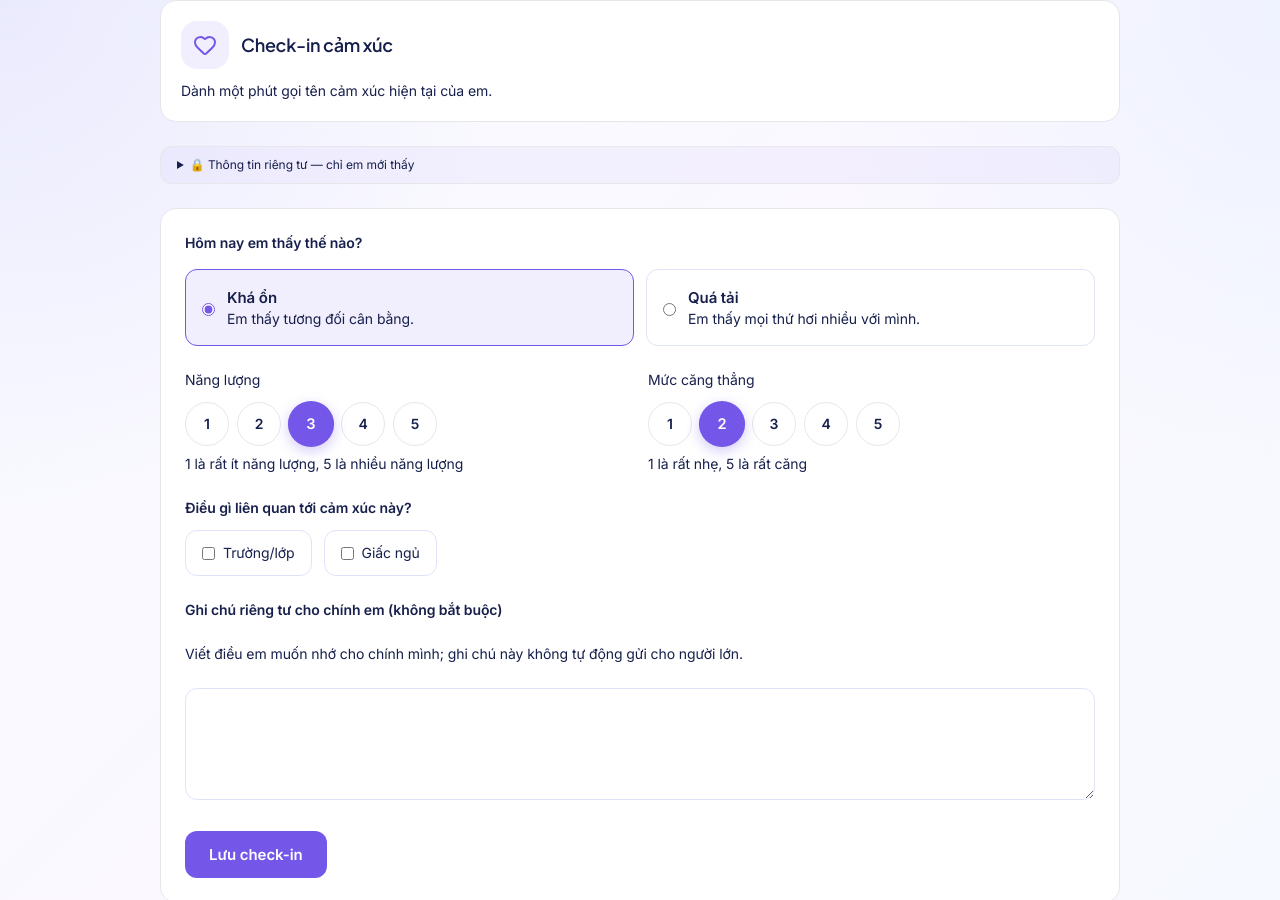
Test: Phase 13 mood check-in UI › submits a private mood check-in and suggests explicit support actions without auto SOS
Expected: the heading "Check-in cảm xúc" is shown, [241,31,393,59]
Expected: the text "Dành một phút gọi tên cảm xúc hiện tại của em." is shown, [181,82,492,99]
Click the radio button labelled "Quá tải Em thấy mọi thứ hơi nhiều với mình.": (670, 310) [663,290,676,329]
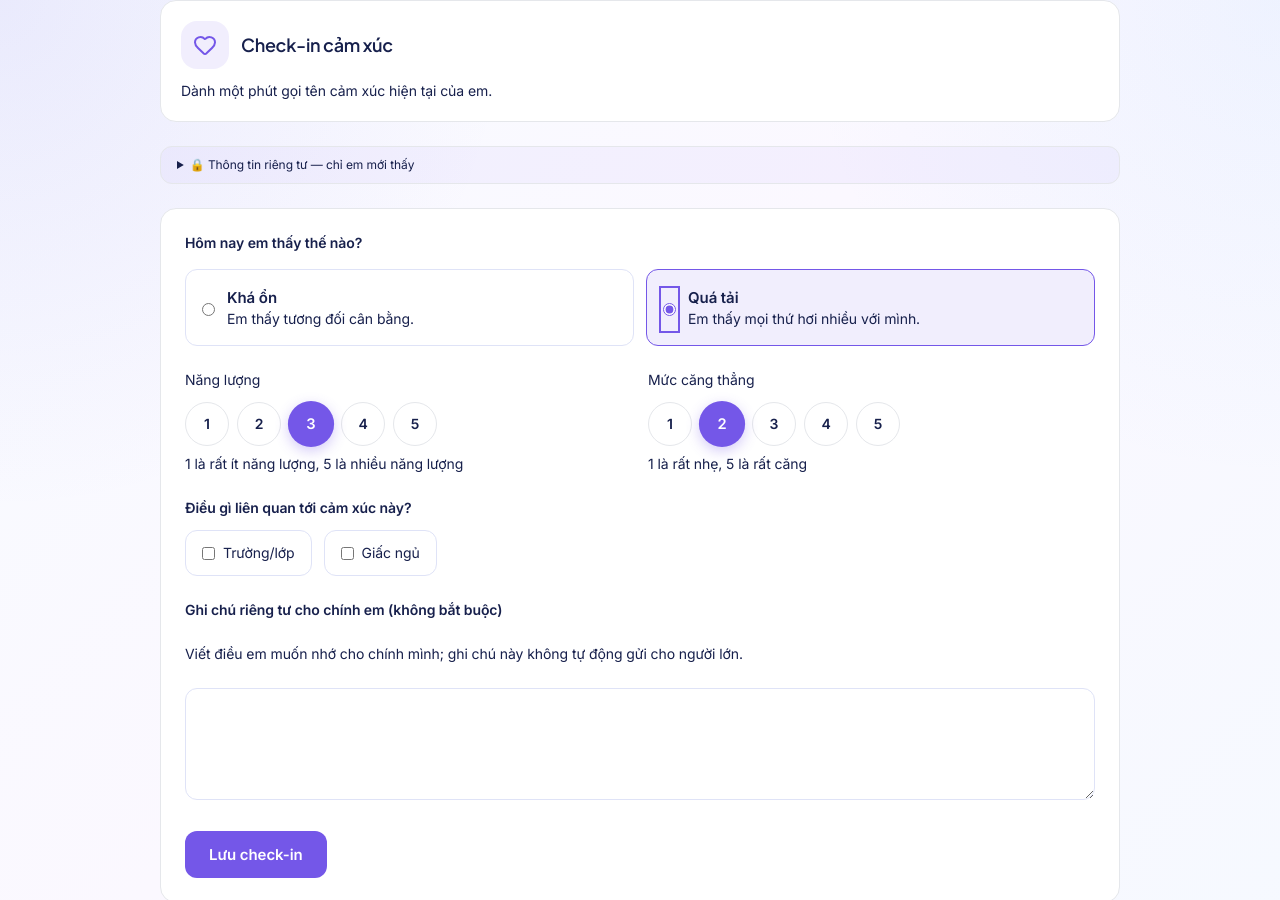
Click the radio button named "Năng lượng 2": (259, 424) [237,402,281,446]
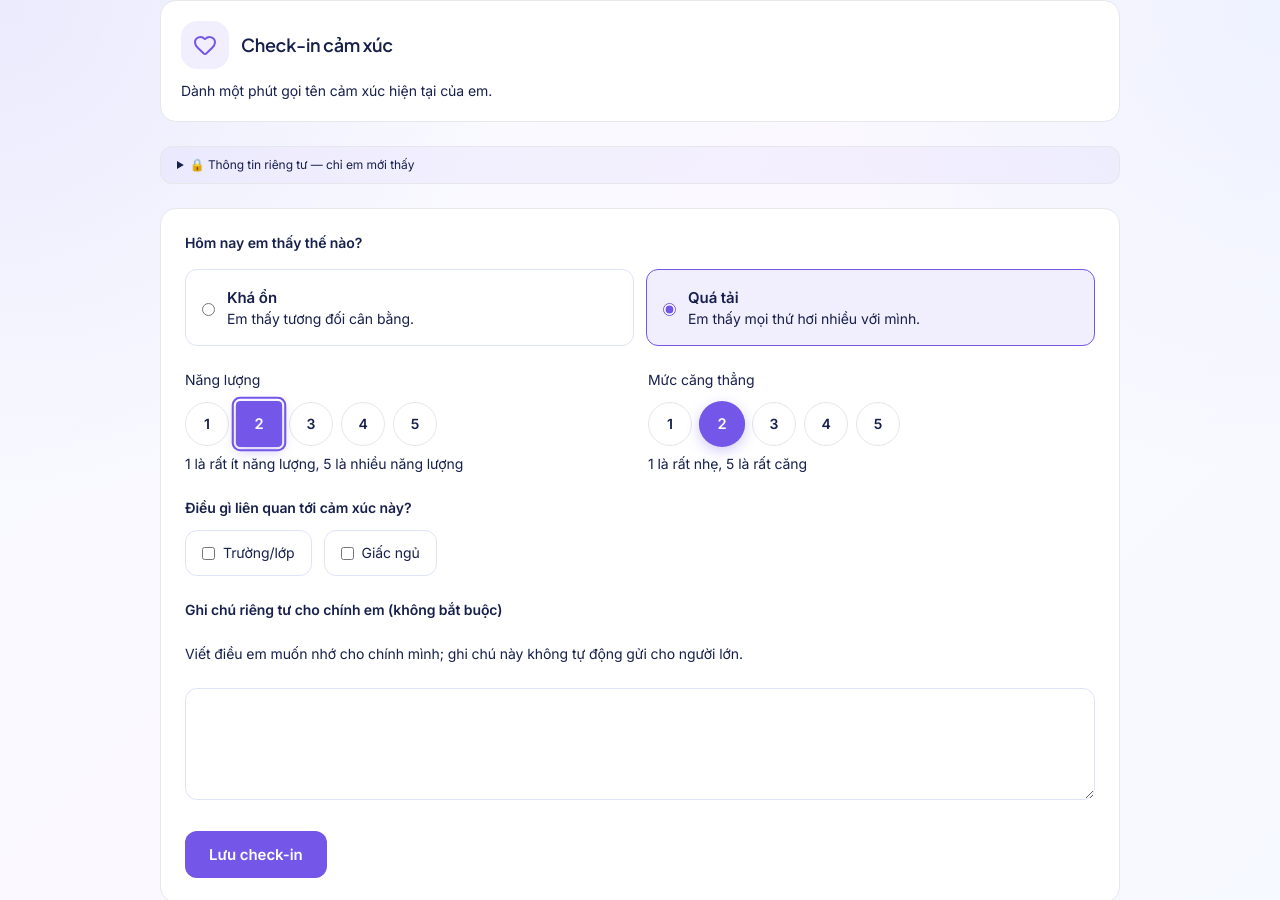
Click the radio button named "Mức căng thẳng 5": (878, 424) [856,402,900,446]
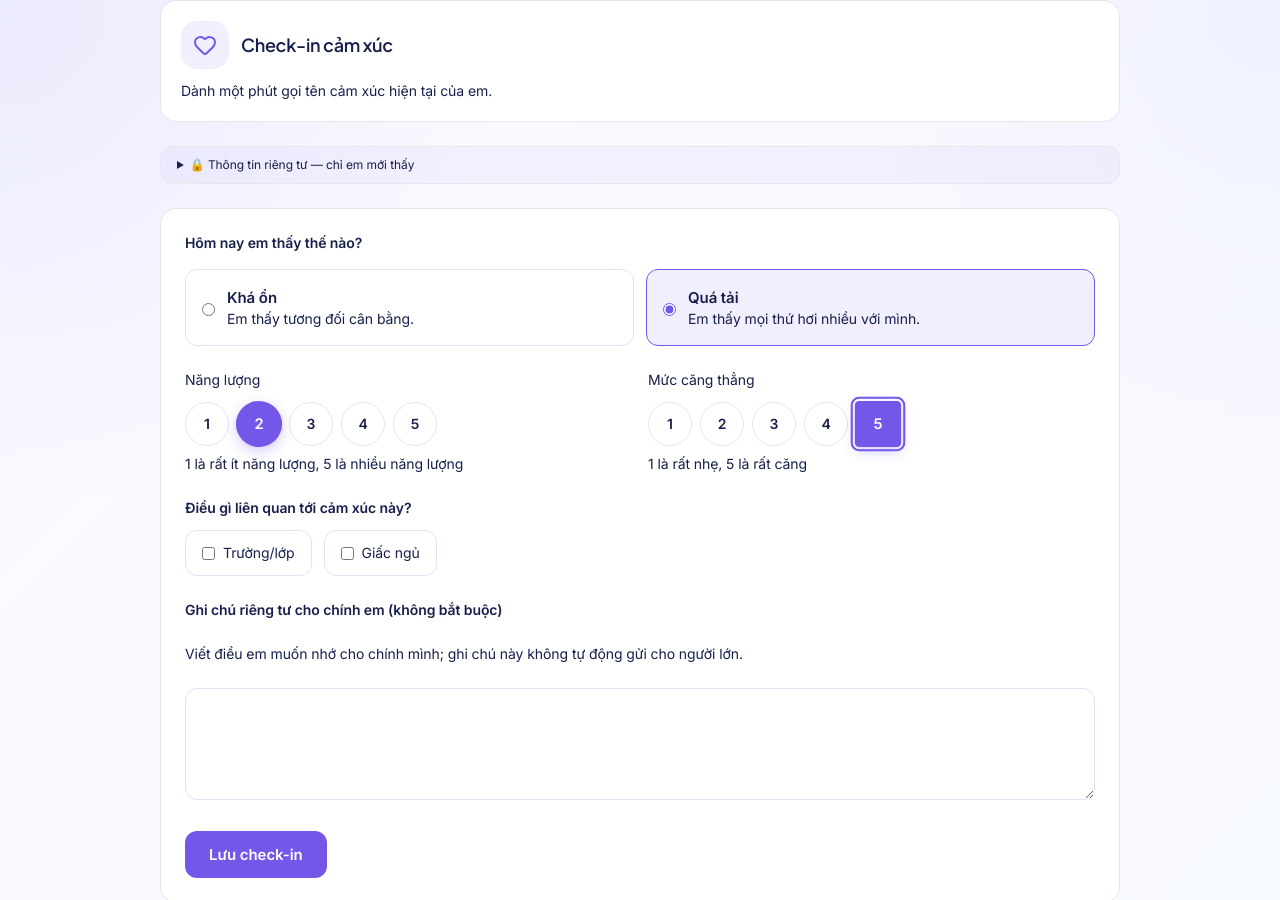
Click the checkbox labelled "Trường/lớp": (208, 553) [202,547,215,560]
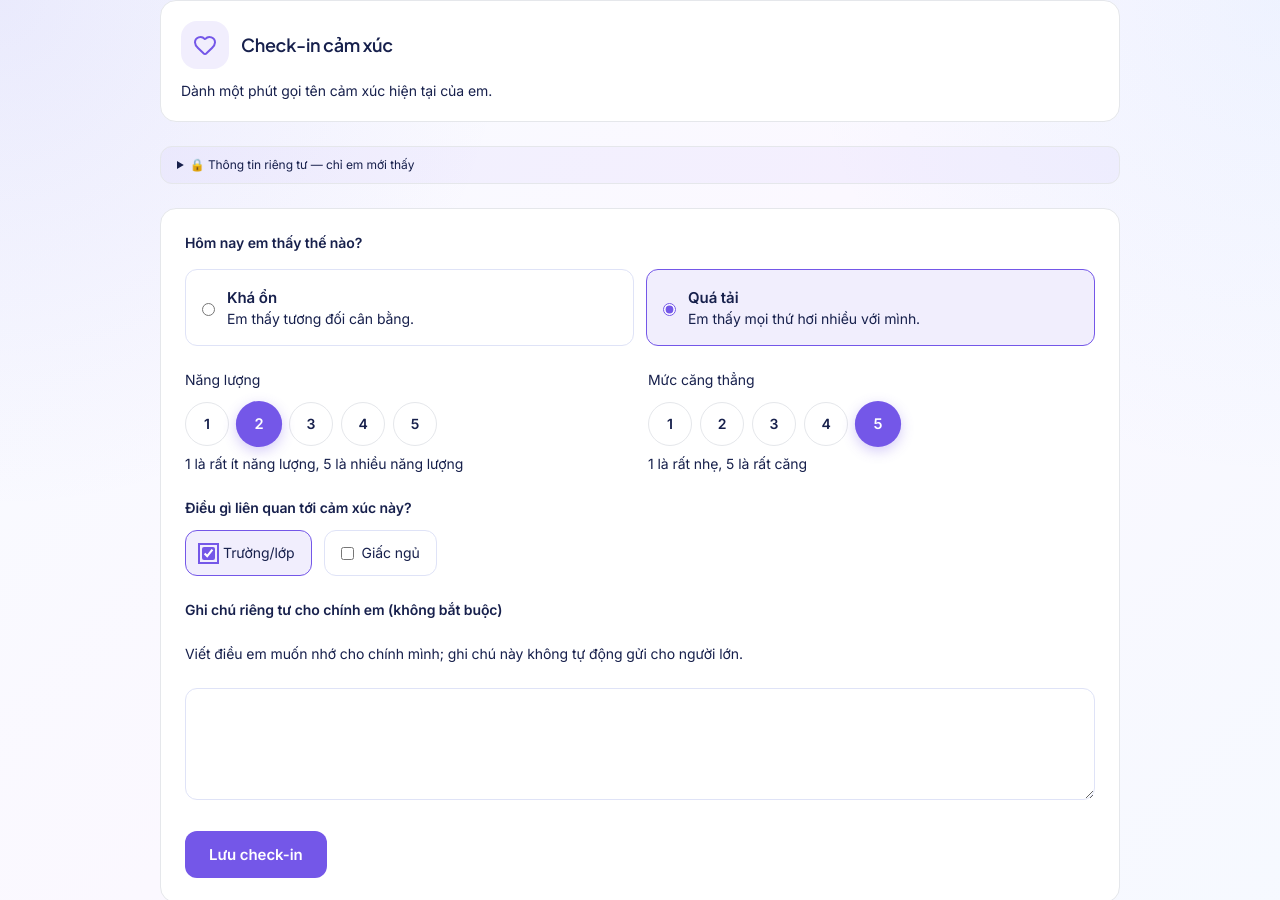
Click the checkbox labelled "Giấc ngủ": (347, 553) [340,547,354,560]
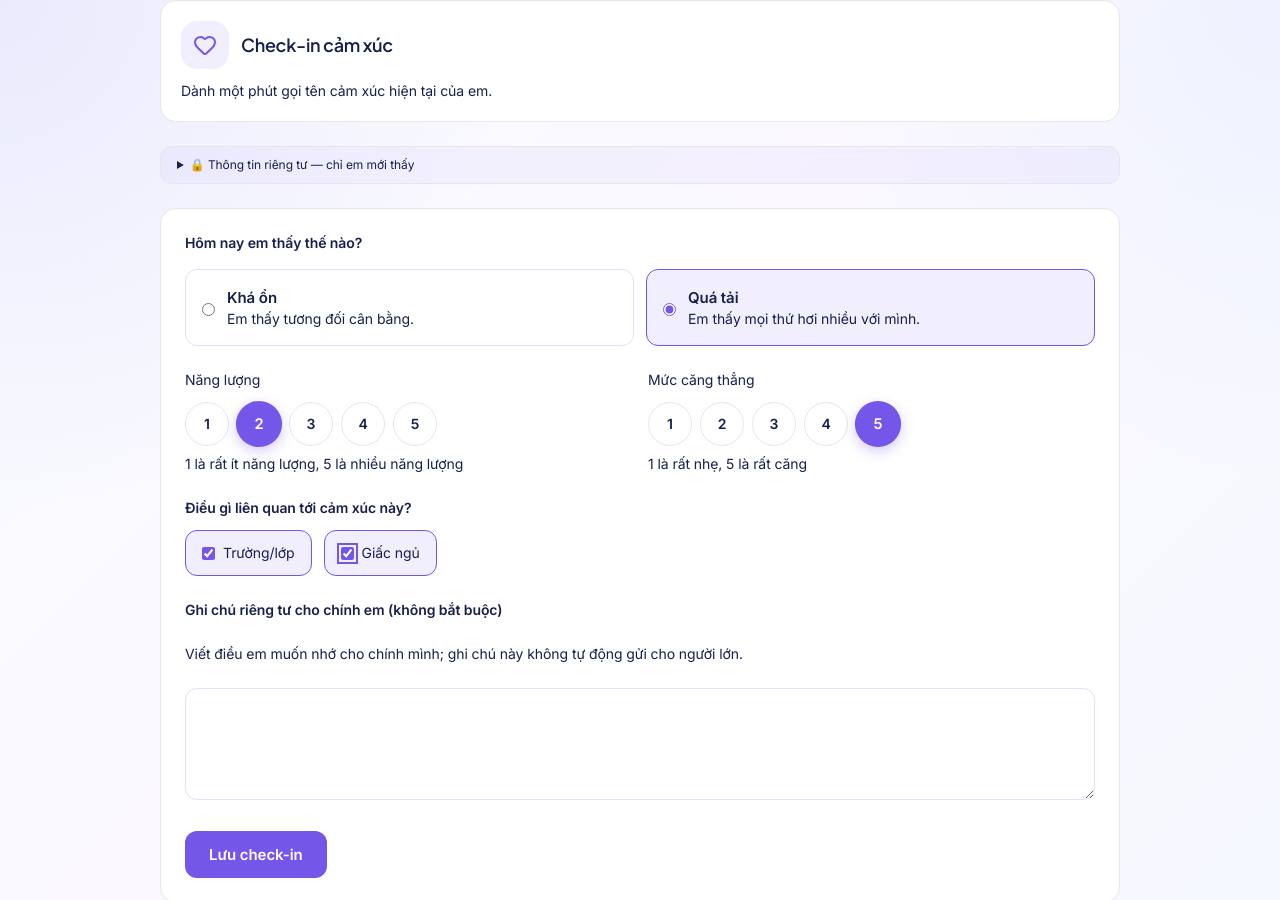
In the text box labelled "Ghi chú riêng tư cho chính em (không bắt buộc)": (640, 744) [185,688,1095,800], type "Em thấy nhiều việc quá."
Click the button "Lưu check-in": (256, 854) [185,830,327,878]
(page scrolled)
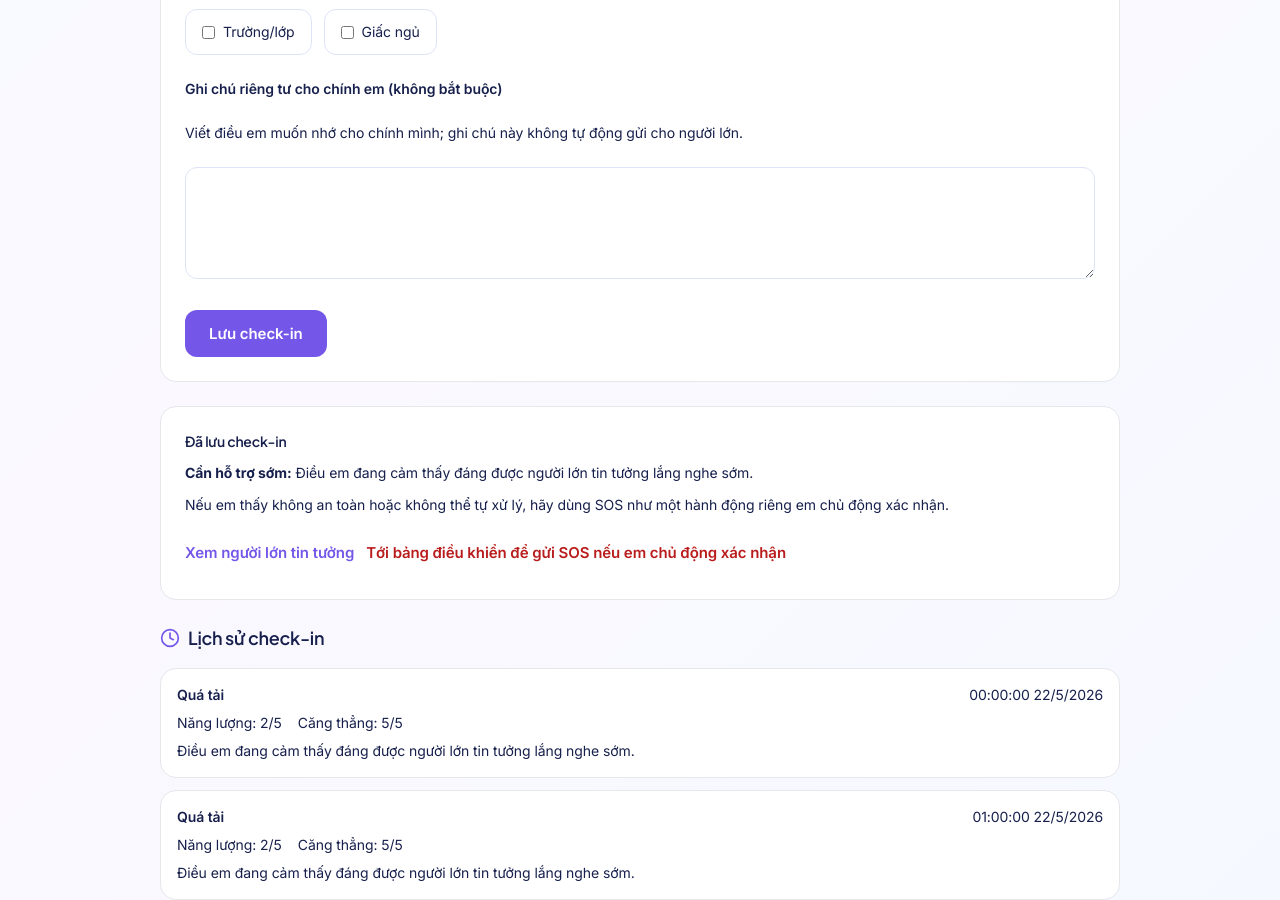
Result: the heading "Đã lưu check-in" is shown at [185,432,286,450]
